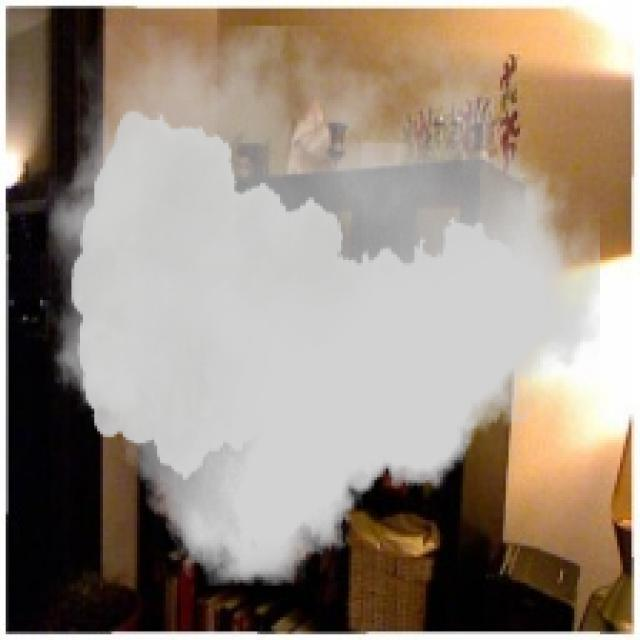Smoke: (45, 26, 600, 586)
